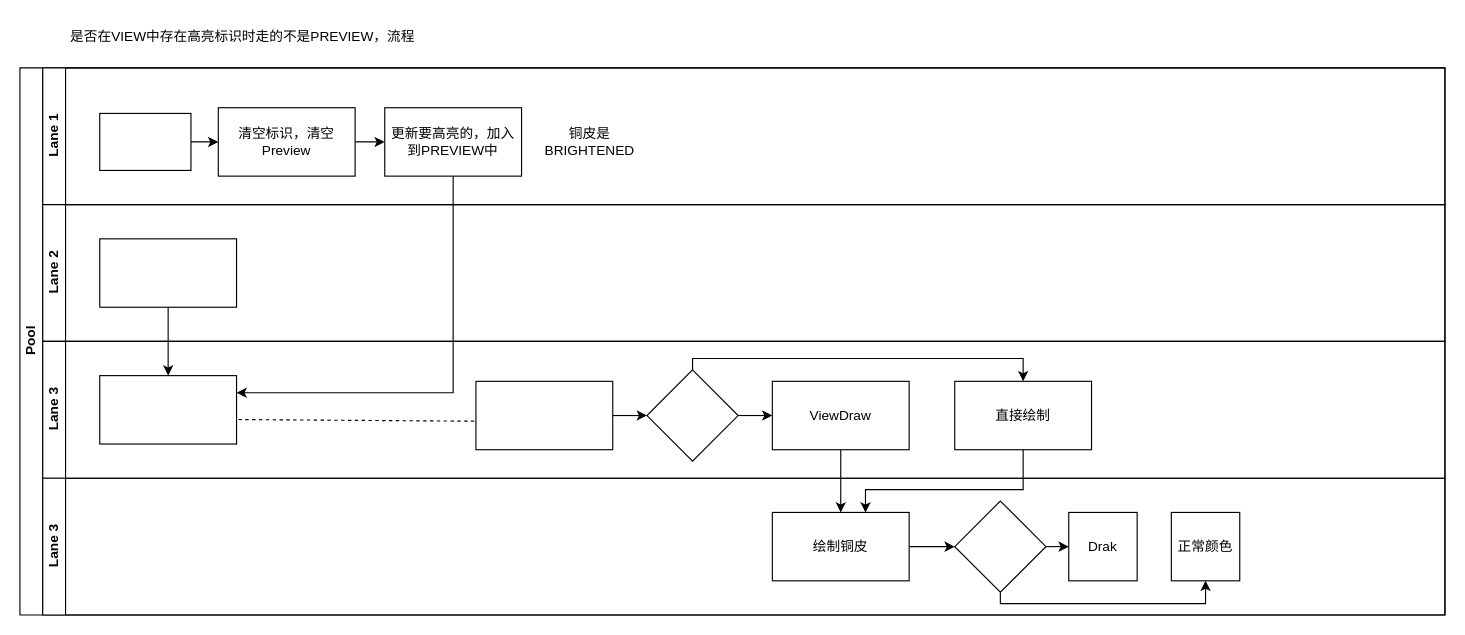
Some shapes in this 1465 by 635 pixel diagram are drawn without their labels. The shapes that lost their labels are listed below. From the top down, each one's centre as x and y in pixels, then its label:
At pixel 145 141: "高亮".
At pixel 168 272: "自动填充".
At pixel 168 409: "Update".
At pixel 544 415: "updateItemGeometry".
At pixel 692 415: "是否为PREVIEW".
At pixel 1000 546: "是否BRIGHTENED".
